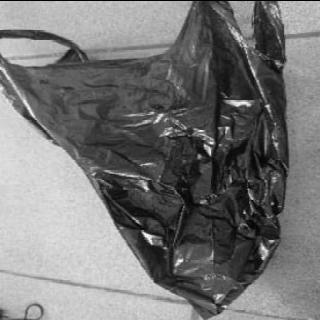objects: (1, 2, 302, 320)
